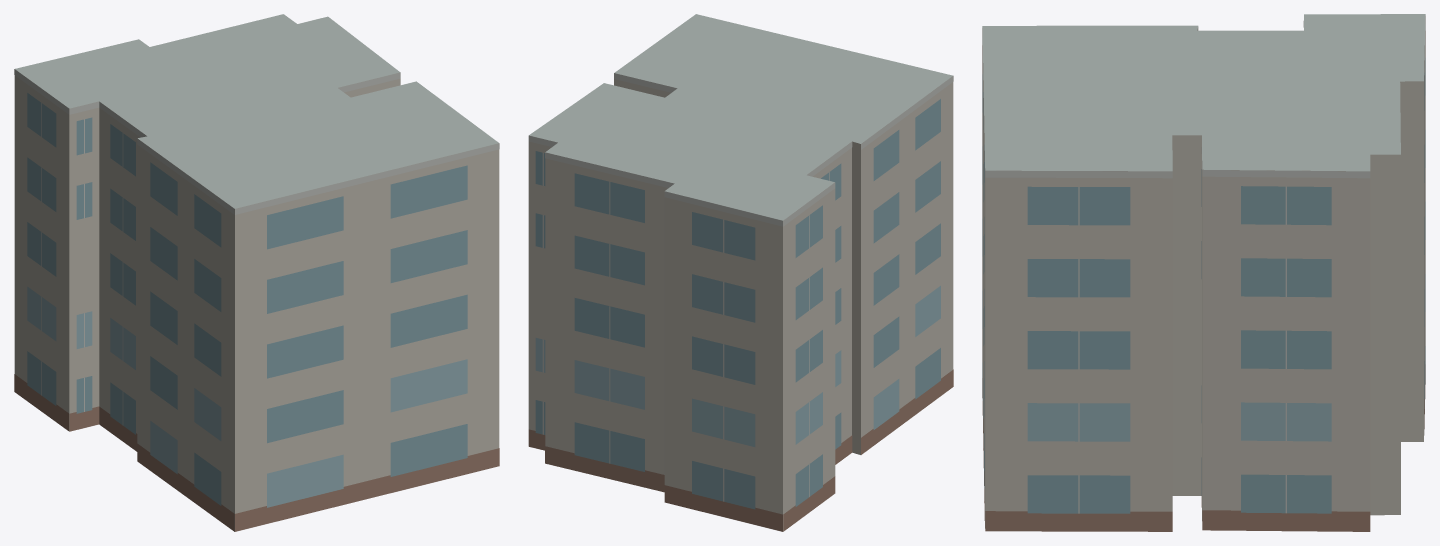
The model's file is survey-upis-32748006.glb.
3 renders of one model, left to right at view 1: azimuth 30°, elevation 25°; view 2: azimuth 150°, elevation 25°; view 3: azimuth 270°, elevation 25°, orthographic. The views are drawn at different scales.
Parts seen in each view (by area): view 1: survey-upis-32748006.tmp; view 2: survey-upis-32748006.tmp; view 3: survey-upis-32748006.tmp.
Boxes of the visible parts, box(x1,y1,x2,y2) form: survey-upis-32748006.tmp: box(14, 14, 499, 531); survey-upis-32748006.tmp: box(528, 14, 953, 531); survey-upis-32748006.tmp: box(982, 14, 1425, 531).
Size of the model in its own units: 11.9 by 12.7 by 14.16.
